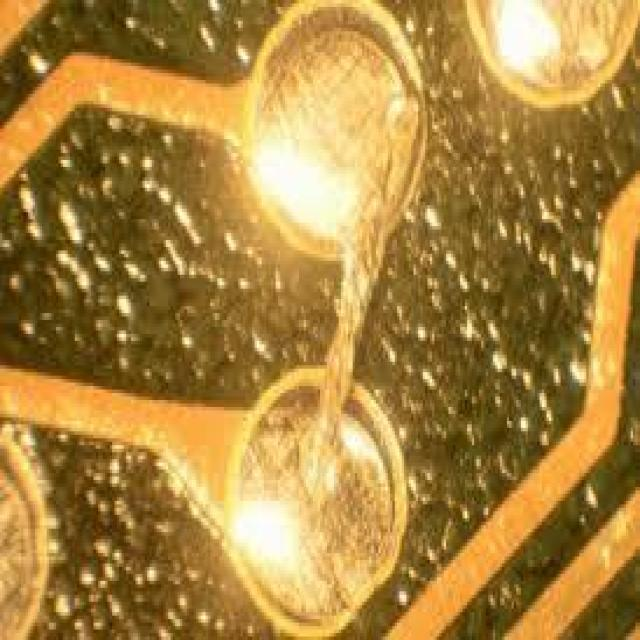Short_circuit: (246, 37, 415, 604)
